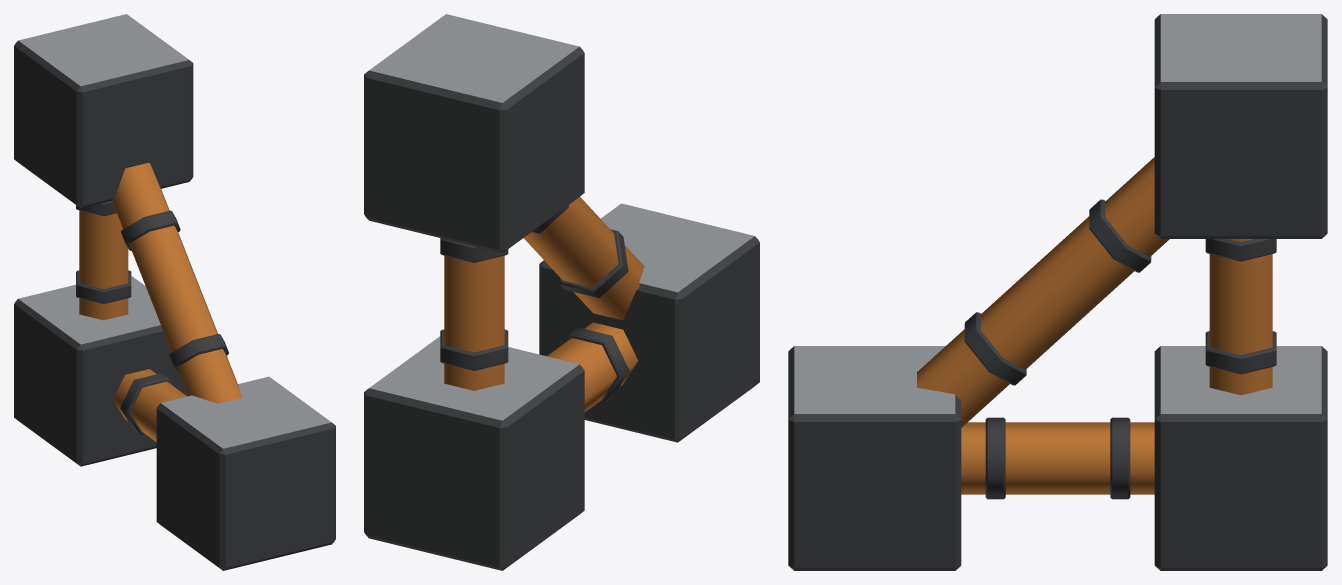
File: R4C_STRUT_RAMP_LOD1.fbx
3 renders of one model, left to right at view 1: azimuth 30°, elevation 25°; view 2: azimuth 150°, elevation 25°; view 3: azimuth 270°, elevation 25°, orthographic. The views are drawn at different scales.
Parts seen in each view (by area): view 1: R4C_STRUT_RAMP_LOD1; view 2: R4C_STRUT_RAMP_LOD1; view 3: R4C_STRUT_RAMP_LOD1.
Part boxes in pixels (x1,y1,x2,y2): R4C_STRUT_RAMP_LOD1: [14, 14, 335, 570]; R4C_STRUT_RAMP_LOD1: [364, 14, 759, 570]; R4C_STRUT_RAMP_LOD1: [788, 14, 1327, 570].
Bounding box in the file's own units: 0.52 × 1.62 × 1.62.
